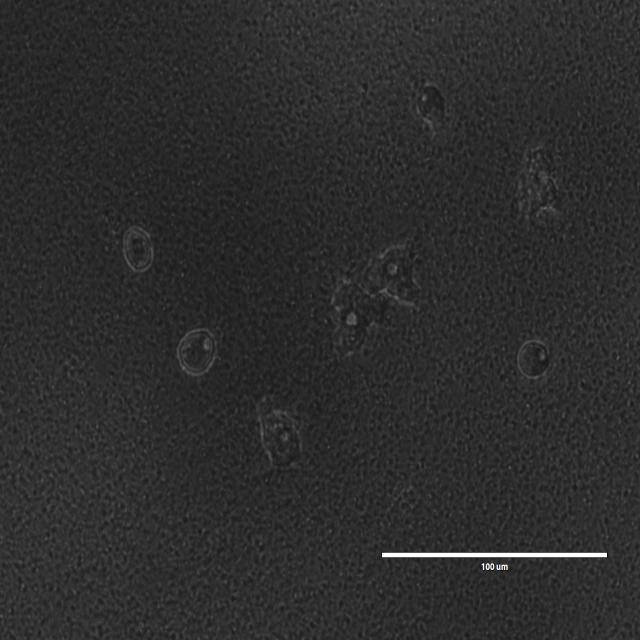Amoeba: (330, 285, 390, 358), (514, 148, 565, 232), (372, 241, 421, 307), (259, 411, 304, 471), (176, 325, 217, 376), (413, 83, 449, 133), (123, 225, 154, 273), (517, 338, 552, 378)
